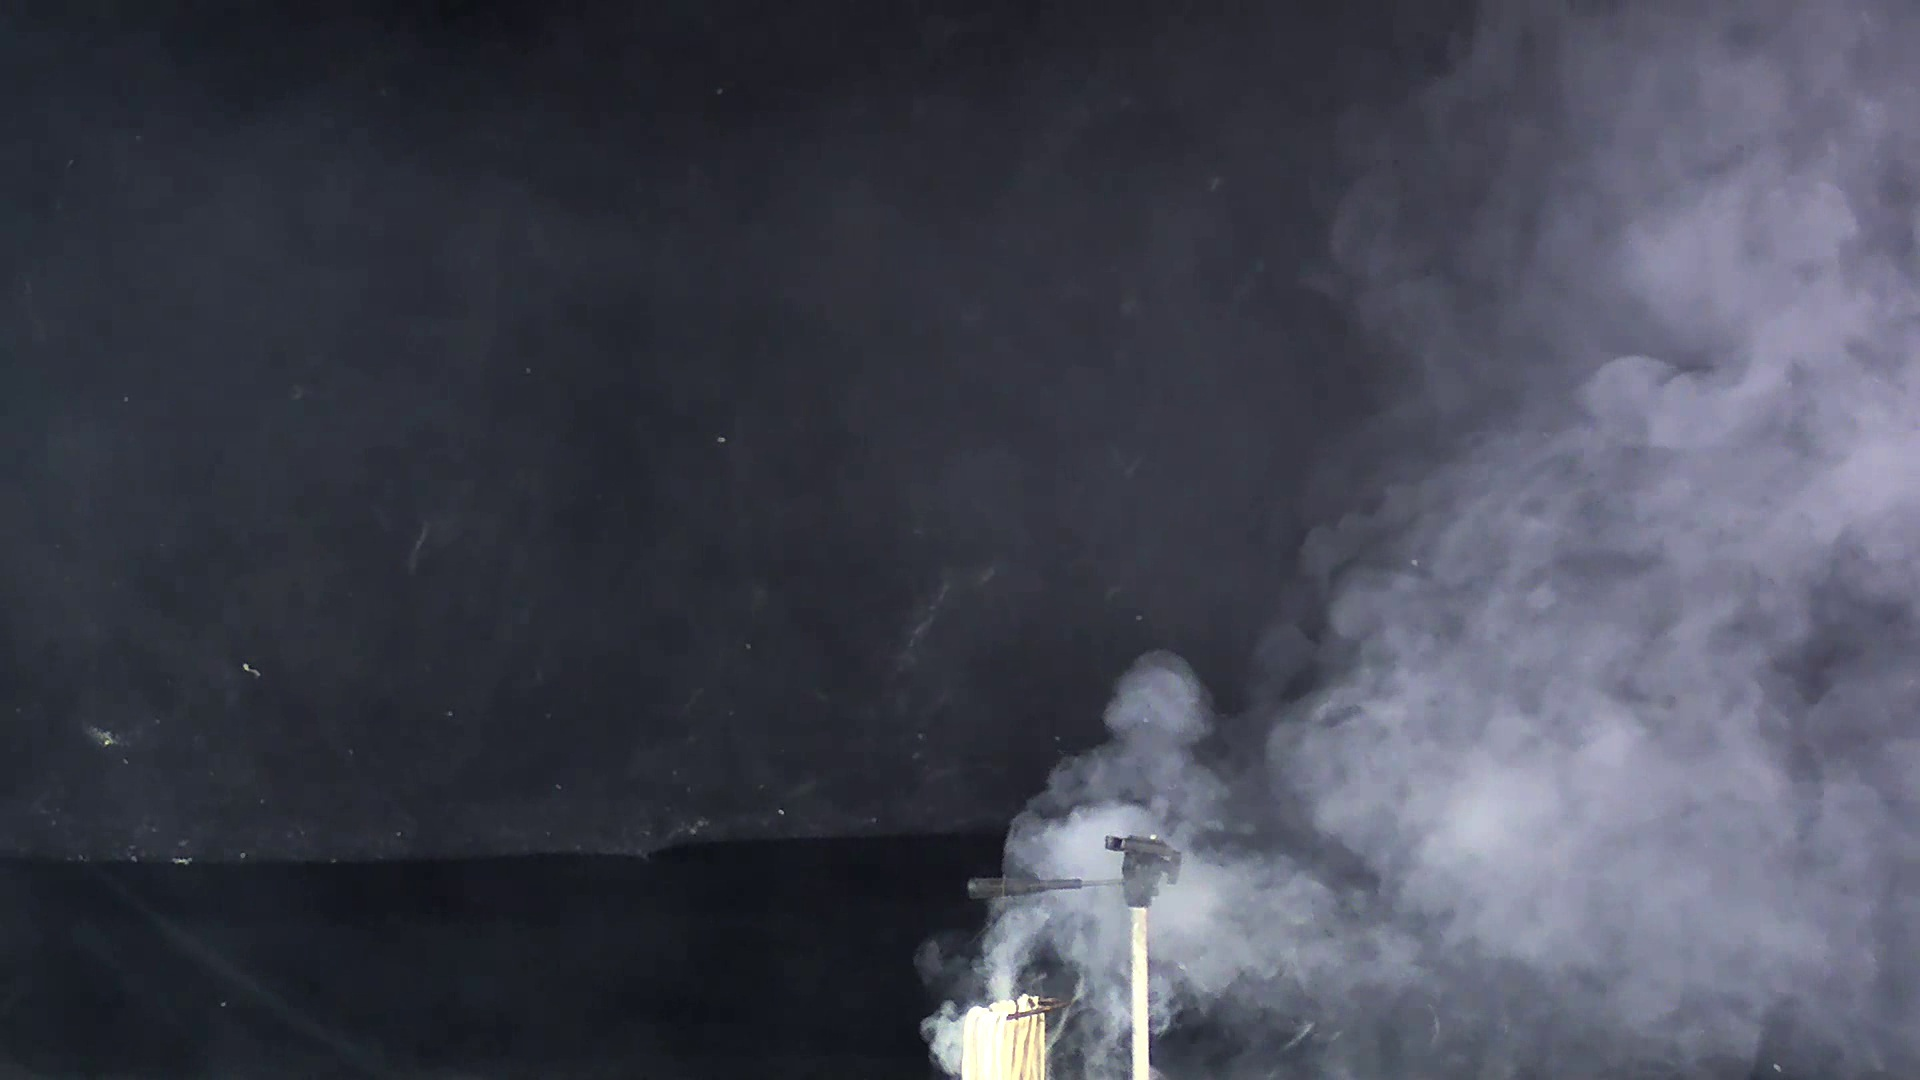smoke: (923, 580, 1782, 1077)
